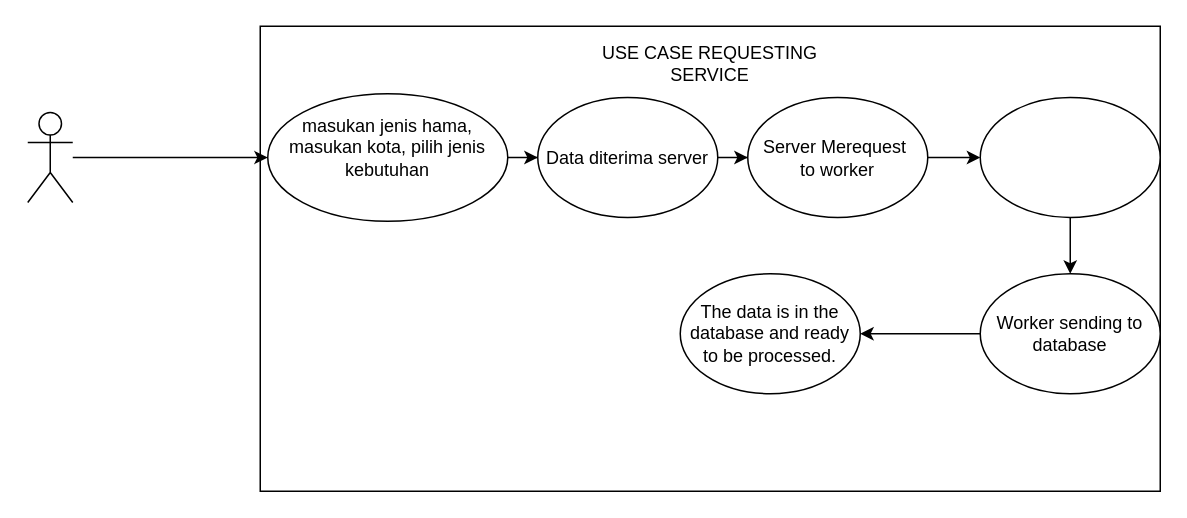
Some shapes in this 1187 by 518 pixel diagram are drawn without their labels. Here are the shapes that lost their labels. From the top down, the centre of each, then its label:
At [49,156]: "USER".
At [1069,157]: "worker accepting".
